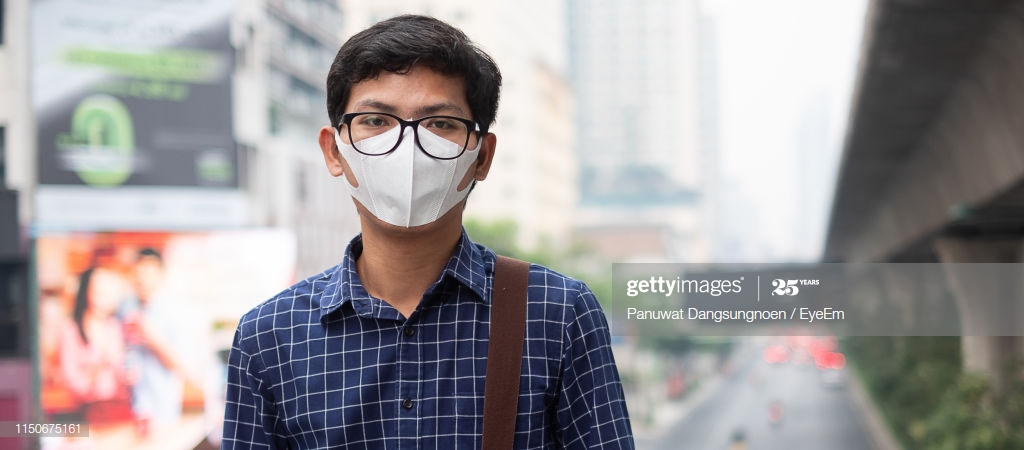with_mask: (327, 41, 502, 243)
